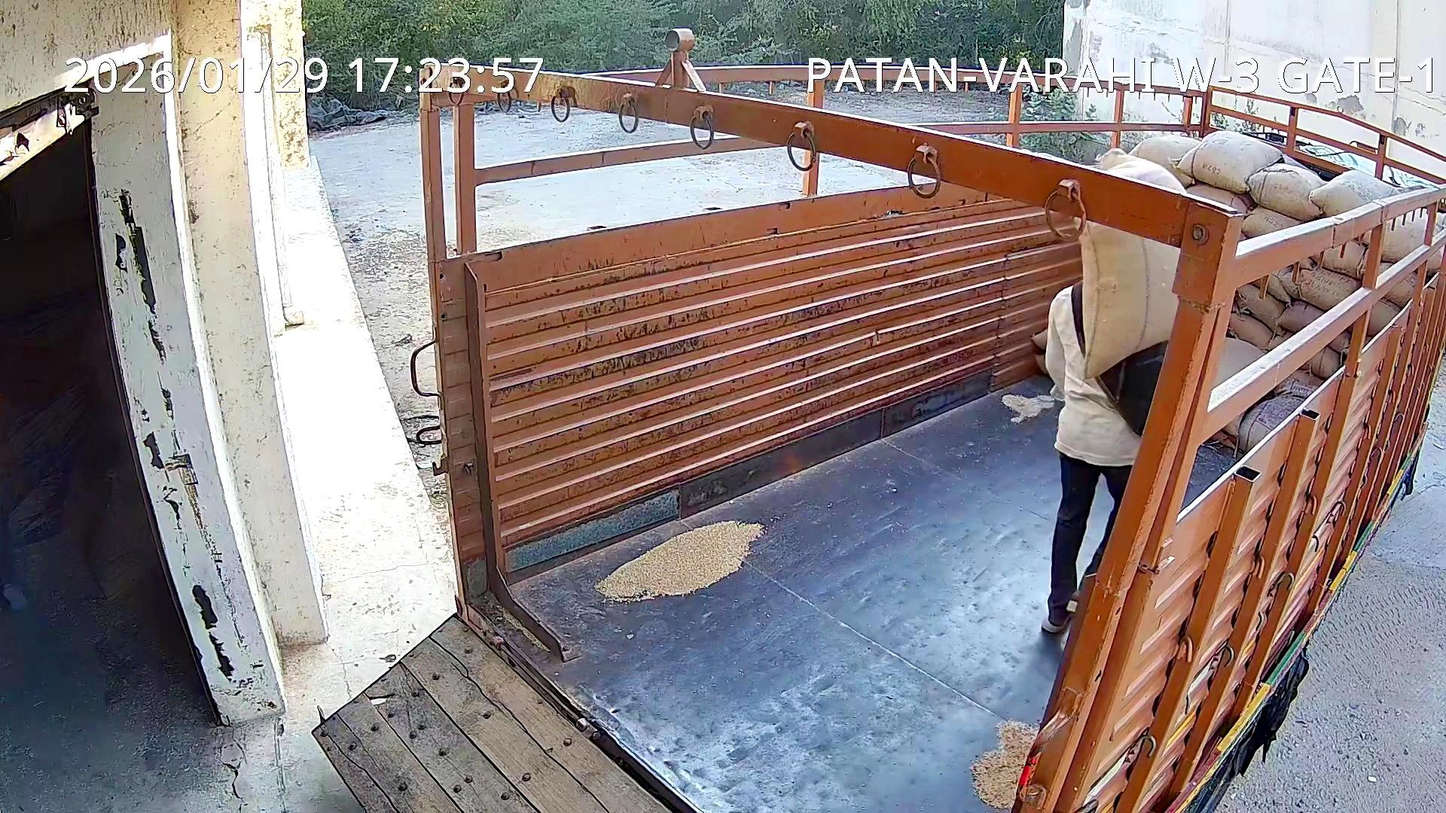Sack: (1079, 221, 1179, 376), (1101, 151, 1182, 190)
